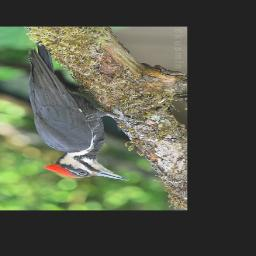Woodpecker: (17, 40, 143, 182)
